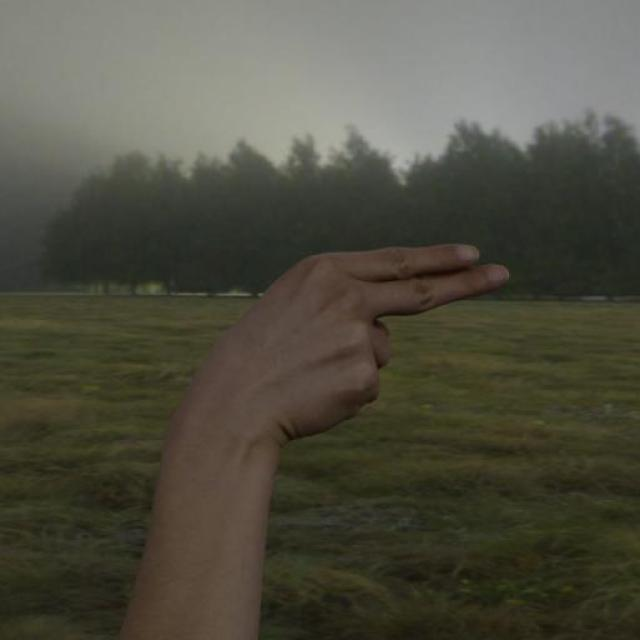H: (170, 240, 516, 436)
